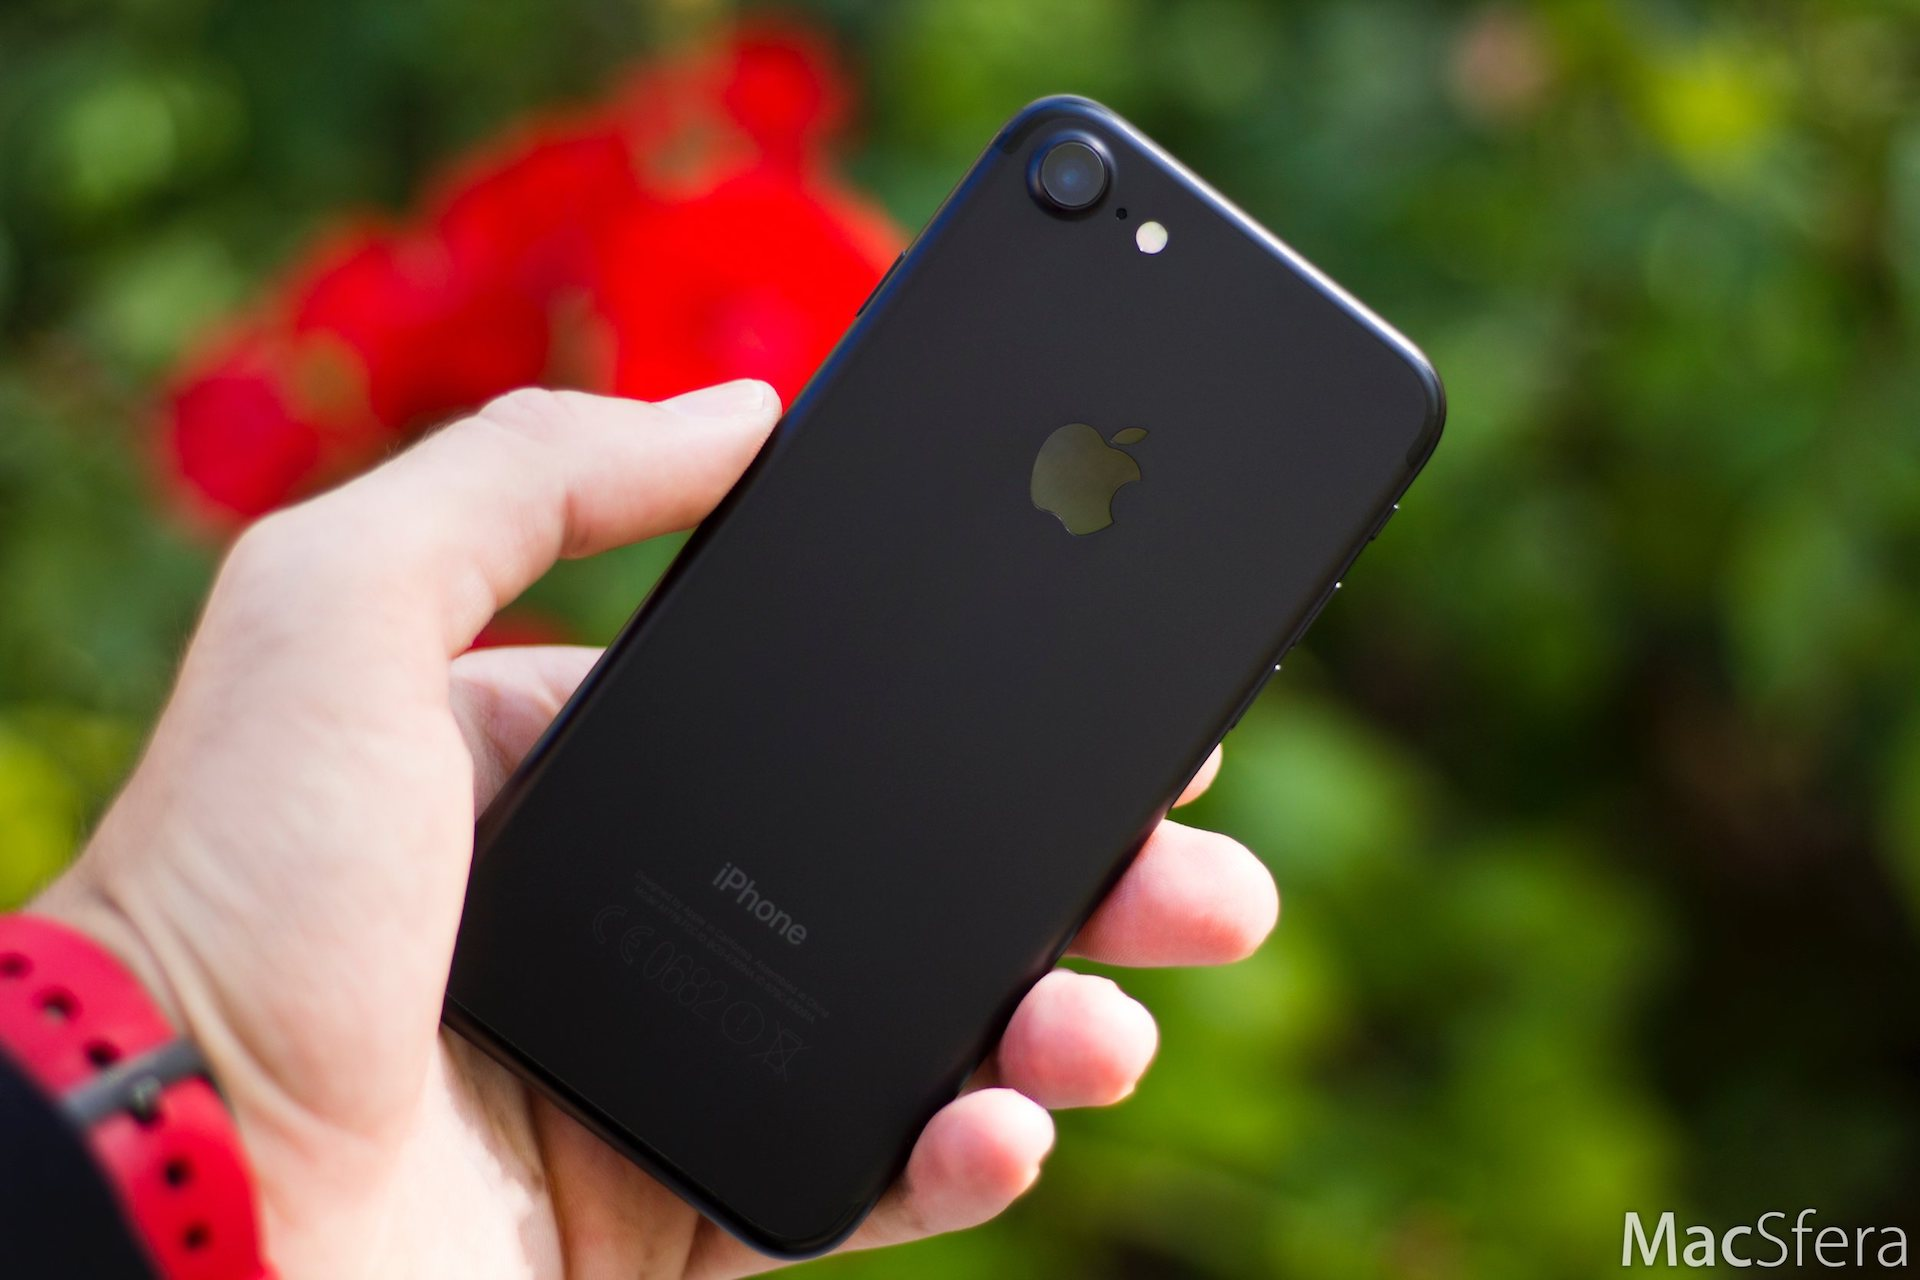smartphone: (436, 93, 1447, 1266)
